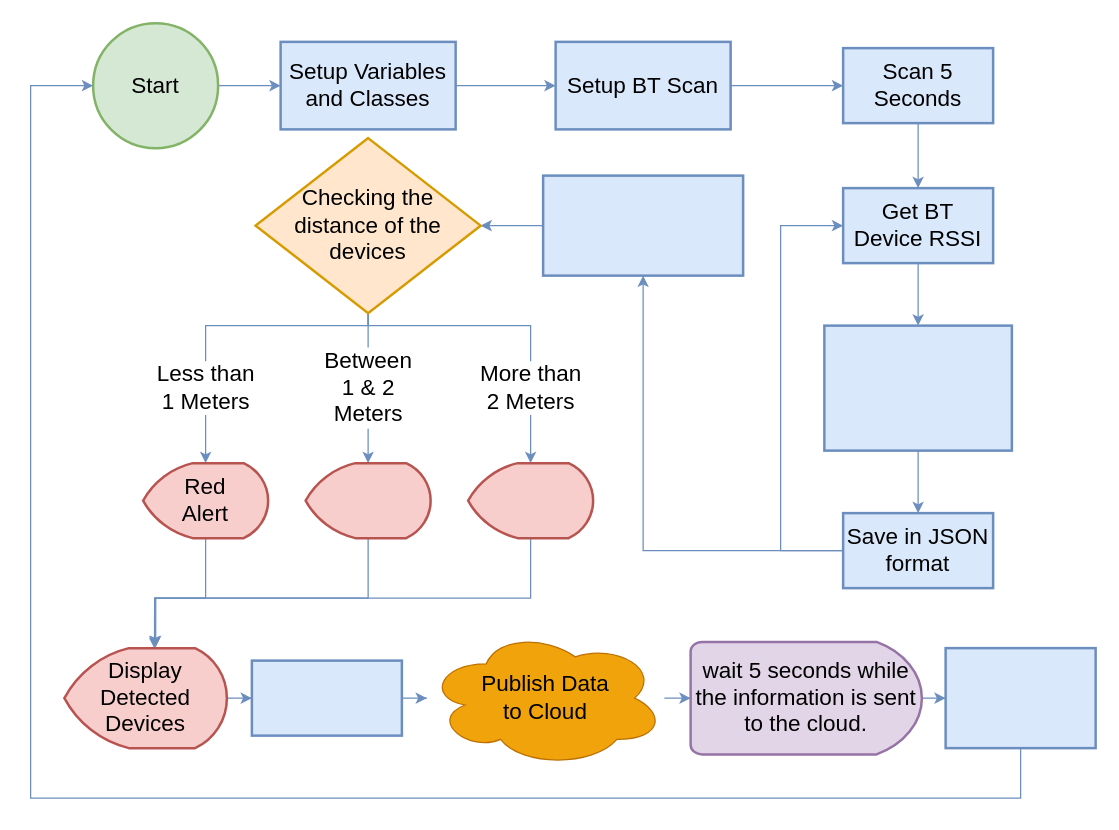
This 1119x830 diagram has some shape labels left out. The centre of each missing label's shape, as x and y in pixels:
"Calculate the distance with RSSI from each device" belongs at (917,387).
"Green Alert" belongs at (530,500).
"M5 Setup Display and SD" belongs at (642,225).
"Setup WiFi and AWS" belongs at (326,697).
"Start Deep Sleep 30 Seconds" belongs at (1020,697).
"Yellow Alert" belongs at (367,500).
